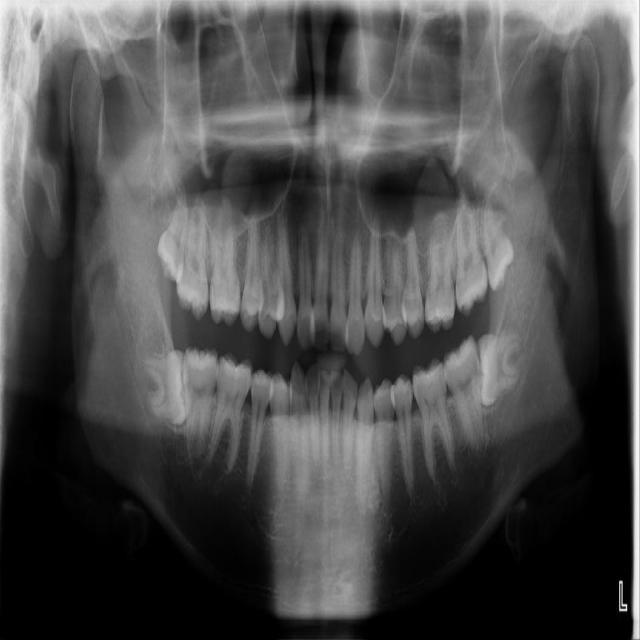3M ESPE Implant: (153, 182, 195, 284)
73: (619, 594, 629, 610)
BioHorizons Implant: (455, 191, 488, 316)
BioLife Implant: (475, 183, 519, 292)
Biomet 3i Implant: (470, 328, 526, 408)
Blue Sky Bio Implant: (440, 333, 486, 452)
Caries: (175, 193, 209, 321)
Implant: (176, 345, 221, 460)
Keystone Dental Implant: (139, 348, 198, 429)
